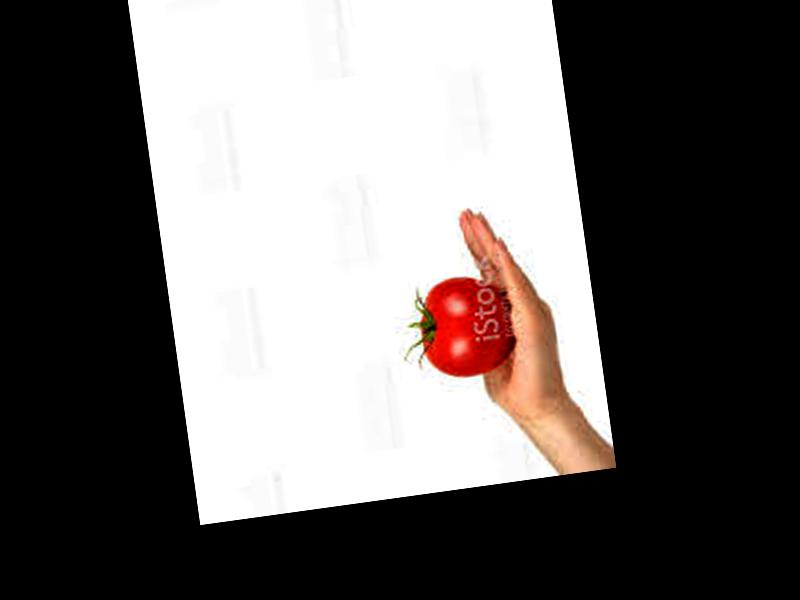Tomato: (413, 273, 517, 382)
